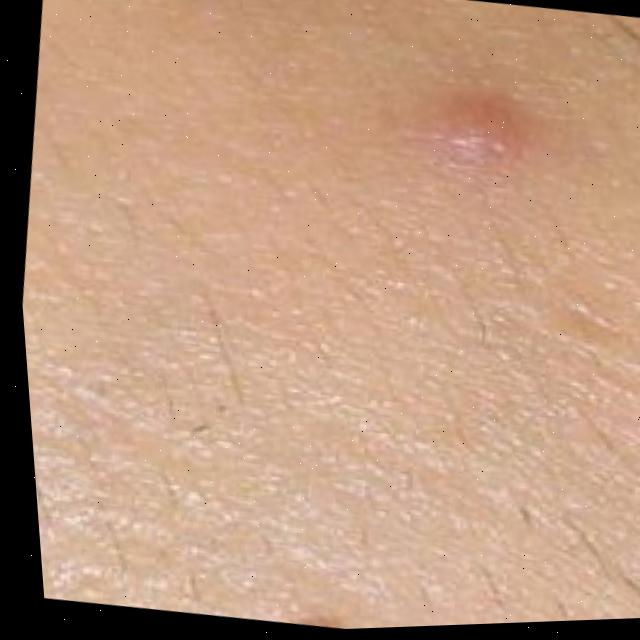Acne: (430, 109, 515, 189)
